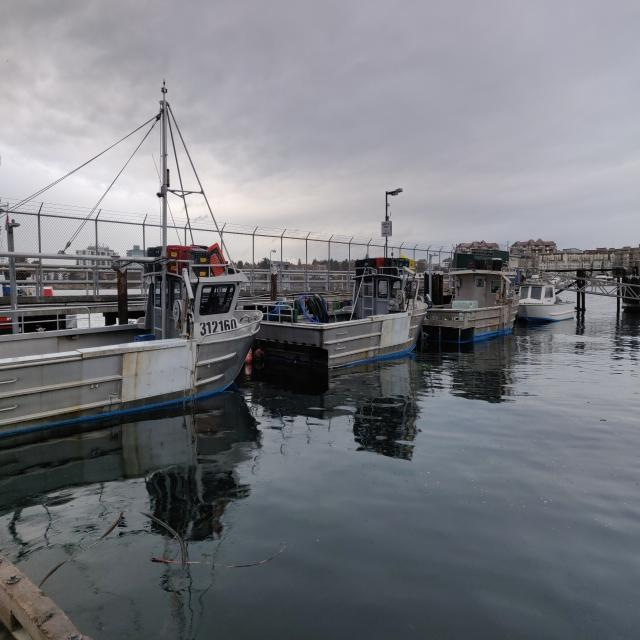boat: (0, 77, 263, 443), (251, 253, 428, 377), (415, 264, 521, 349), (514, 273, 577, 326)
debris: (39, 506, 128, 590), (148, 545, 290, 573), (138, 500, 190, 573)
